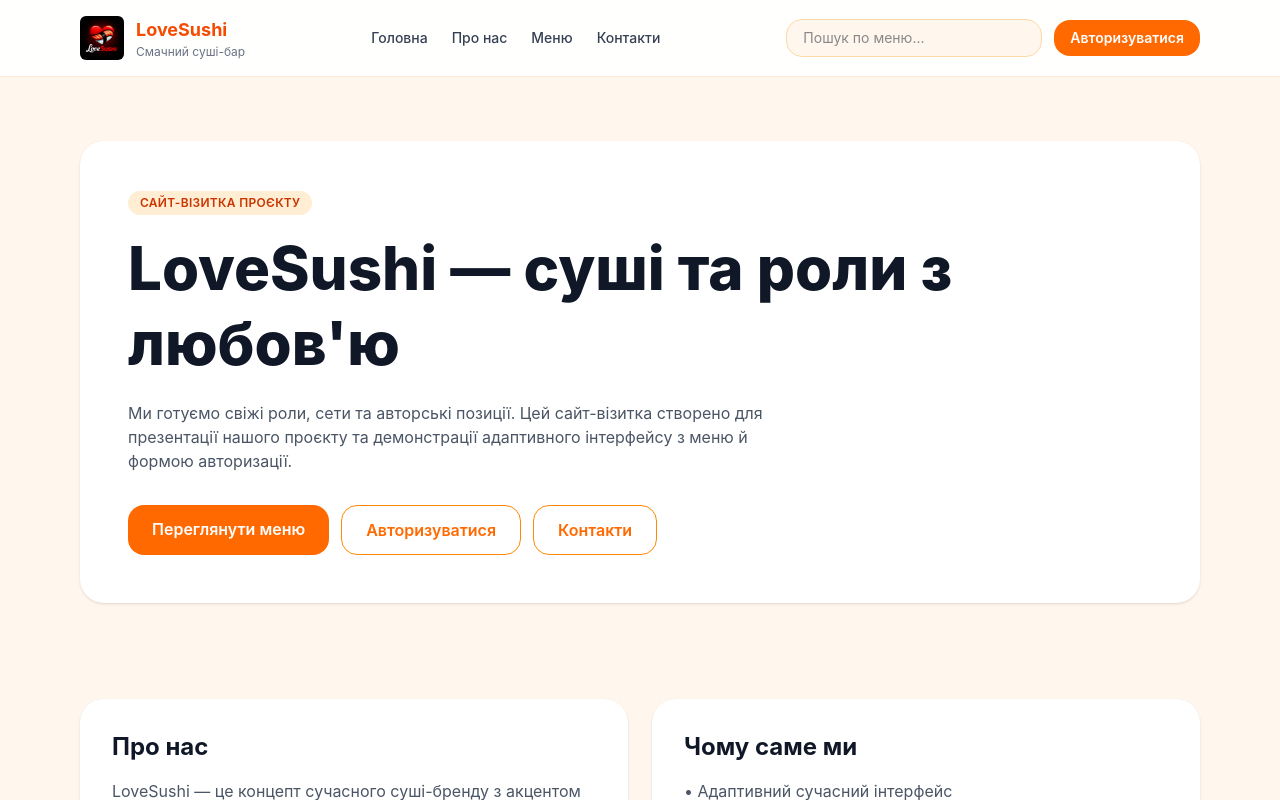
Test: 4. Successful authorization › Should successfully submit the login form with valid credentials
Click the button "Авторизуватися" in the row of "Головна": (1127, 38) [1054,20,1200,56]
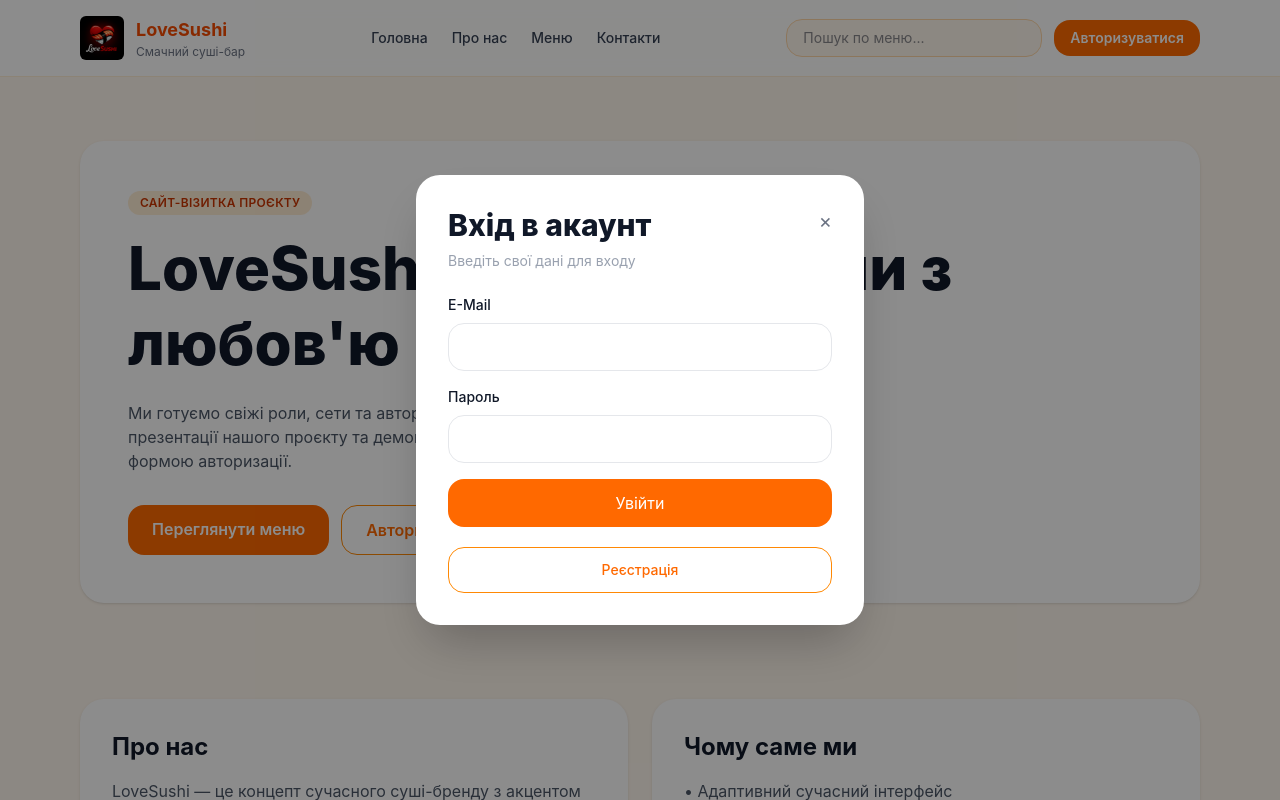
Now the heading "Вхід в акаунт" is shown, box [448,207,651,243]
Now the field named "email" is shown
In the field named "email": (640, 347) [448,323,832,371], type "oleg.dev@example.com"
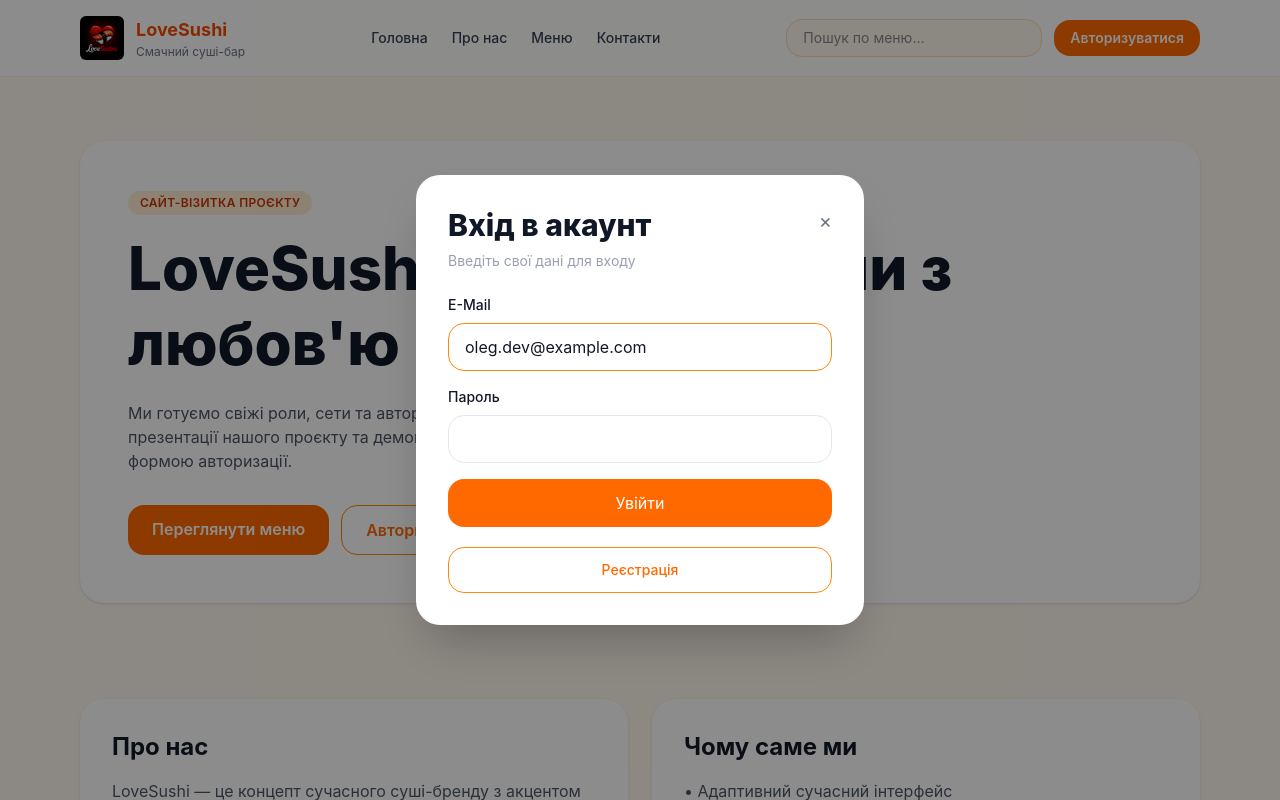
Now the password field is shown
In the password field: (640, 439) [448,415,832,463], type "CorrectPassword123"
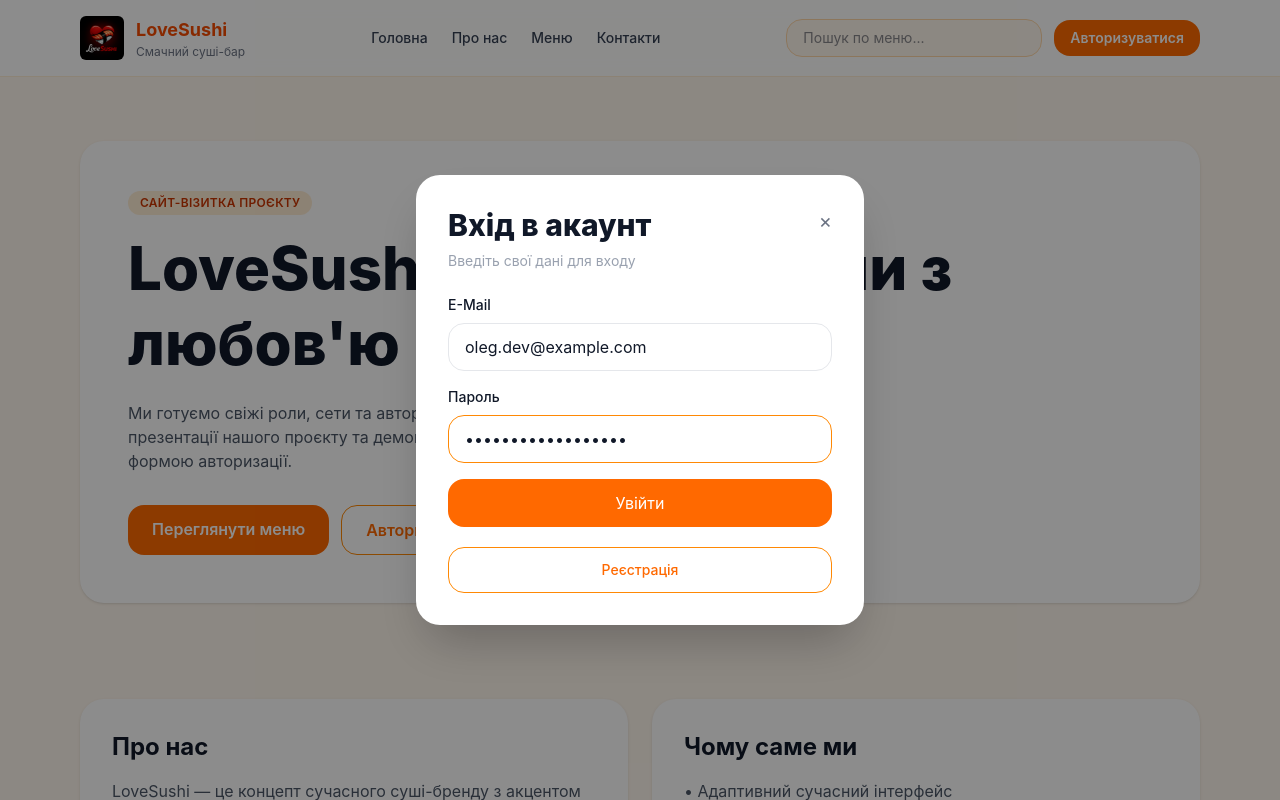
Click the submit button: (640, 503) [448,479,832,527]
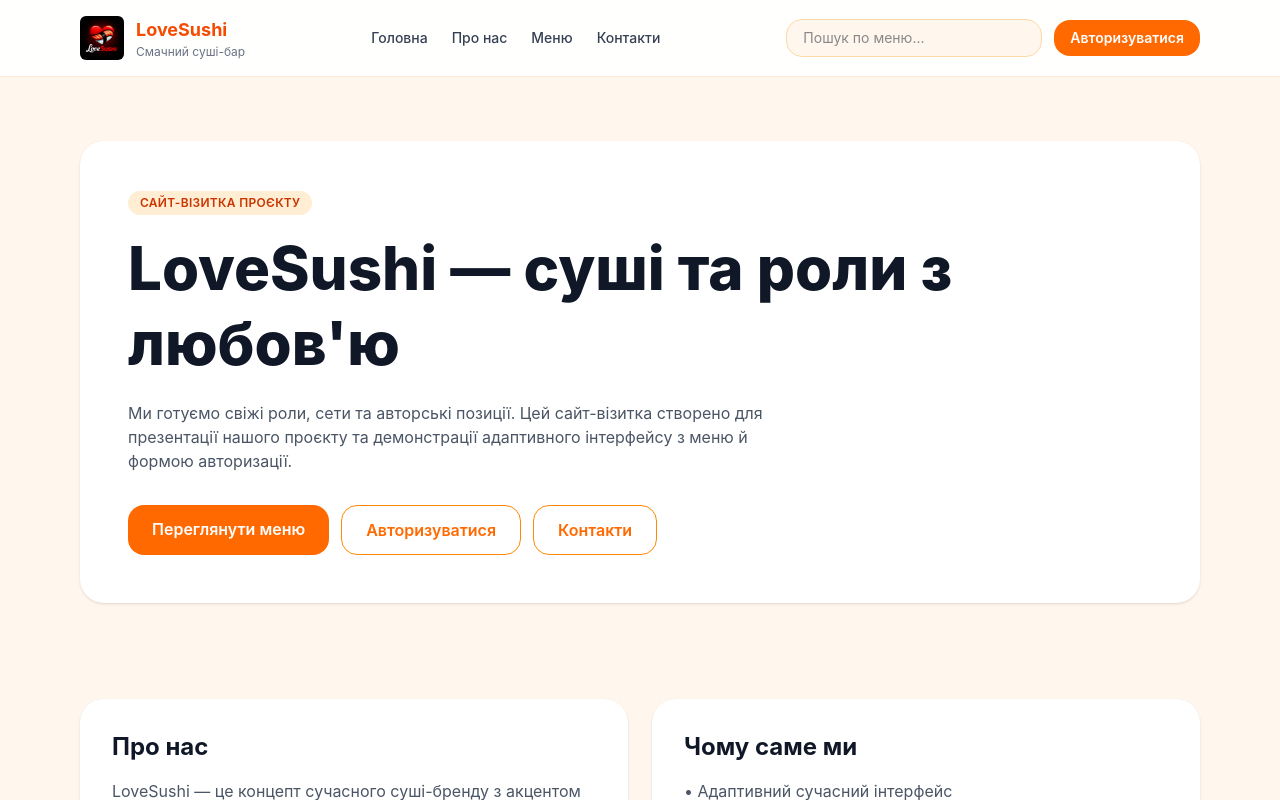
Now the heading "Вхід в акаунт" is gone
